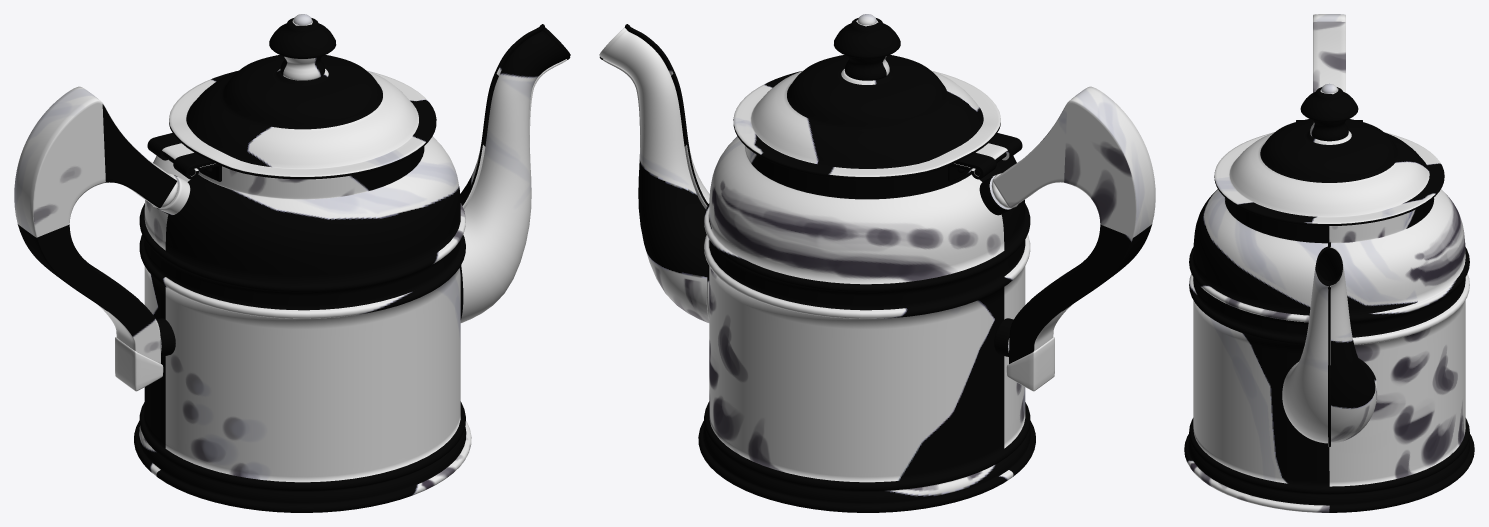
3 views of the same model, side by side, from view 1: azimuth 30°, elevation 25°; view 2: azimuth 150°, elevation 25°; view 3: azimuth 270°, elevation 25° (orthographic). The views are drawn at different scales.
Parts seen in each view (by area): view 1: Tea_kettle_Krishka.001, Tea_kettle_Krishka; view 2: Tea_kettle_Krishka.001, Tea_kettle_Krishka; view 3: Tea_kettle_Krishka.001, Tea_kettle_Krishka.
Part boxes in pixels (x1,y1,x2,y2): Tea_kettle_Krishka.001: (14,24,570,512); Tea_kettle_Krishka: (147,14,436,179); Tea_kettle_Krishka.001: (599,24,1155,512); Tea_kettle_Krishka: (733,14,1022,179); Tea_kettle_Krishka.001: (1184,14,1474,512); Tea_kettle_Krishka: (1214,83,1444,225).
Bounding box in the file's own units: 328 × 246 × 176.
